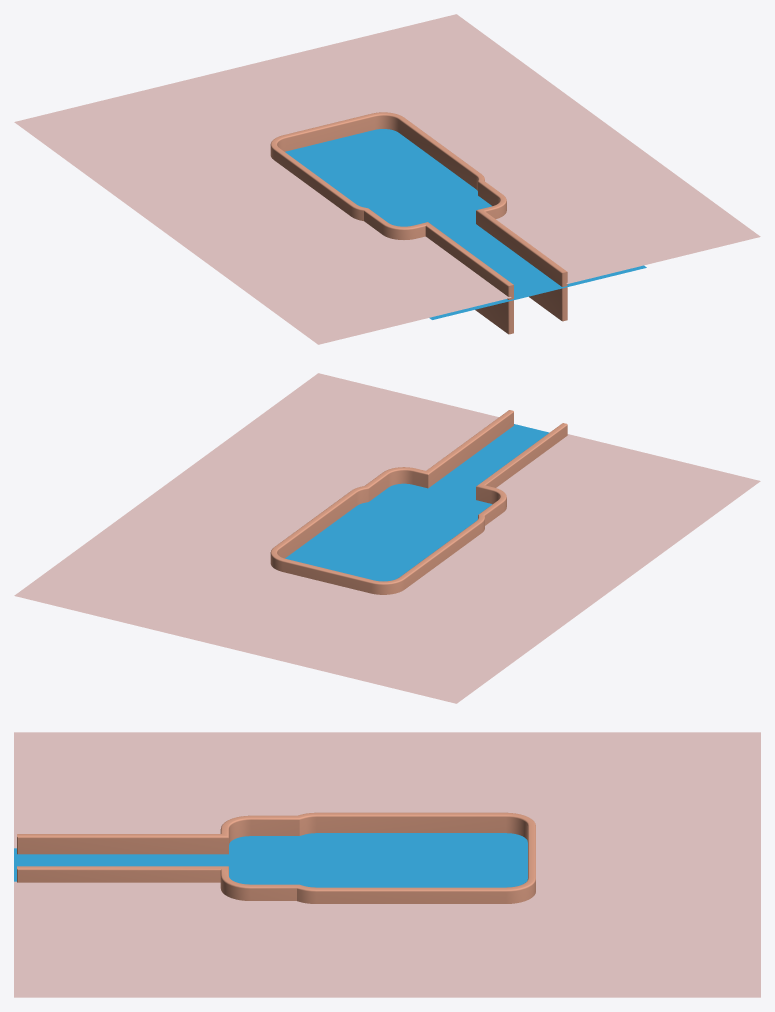
The model's file is map_2_full.fbx.
The picture shows the model from 3 angles, top to bottom: view 1: azimuth 30°, elevation 25°; view 2: azimuth 150°, elevation 25°; view 3: azimuth 270°, elevation 25°; orthographic projection. The views are drawn at different scales.
Visible parts, largest first — view 1: ground_2, water_surface, map_2; view 2: ground_2, water_surface, map_2; view 3: ground_2, map_2, water_surface.
Boxes of the visible parts, left/top/right/bottom form: ground_2: left=14, top=14, right=760, bottom=344; water_surface: left=285, top=129, right=646, bottom=319; map_2: left=270, top=112, right=567, bottom=334; ground_2: left=14, top=373, right=760, bottom=703; water_surface: left=285, top=424, right=549, bottom=581; map_2: left=270, top=410, right=567, bottom=594; ground_2: left=14, top=732, right=760, bottom=997; map_2: left=17, top=812, right=535, bottom=903; water_surface: left=14, top=833, right=527, bottom=887.
Bounding box in the file's own units: 6132 × 642 × 7304.
